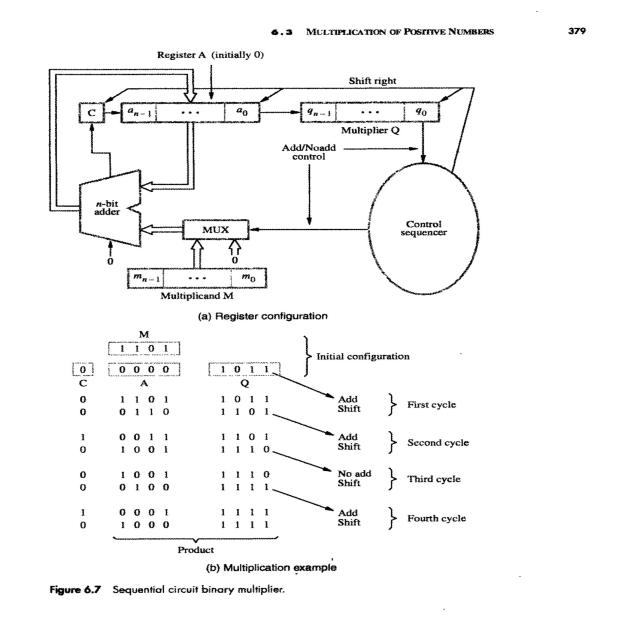diagram: (21, 27, 533, 324)
